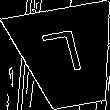L_S: (43, 30, 92, 85)
